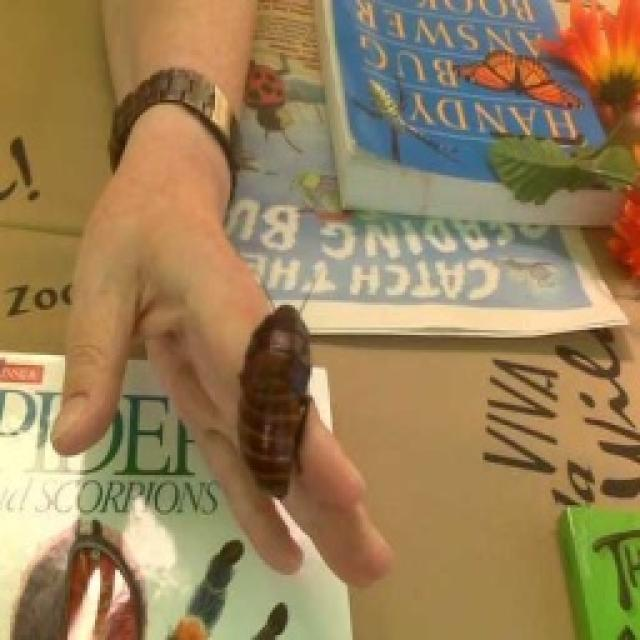cockroach: (232, 299, 320, 502)
